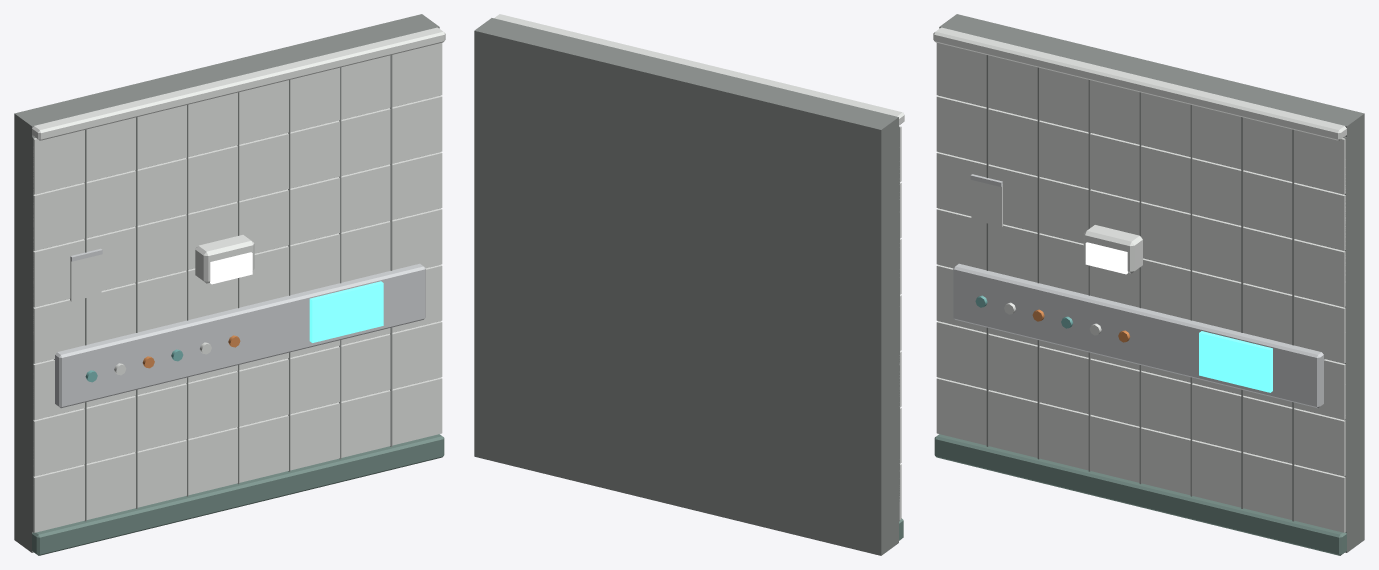
File: wall_hs_panel.glb
3 renders of one model, left to right at view 1: azimuth 30°, elevation 25°; view 2: azimuth 150°, elevation 25°; view 3: azimuth 330°, elevation 25°, orthographic.
Parts seen in each view (by area): view 1: wall_hs_panel; view 2: wall_hs_panel; view 3: wall_hs_panel.
Boxes of the visible parts, x1,y1,x2,y2 form: wall_hs_panel: (14, 14, 445, 555); wall_hs_panel: (474, 14, 904, 555); wall_hs_panel: (933, 14, 1364, 555).
Bounding box in the file's own units: 4 × 4 × 0.585.
